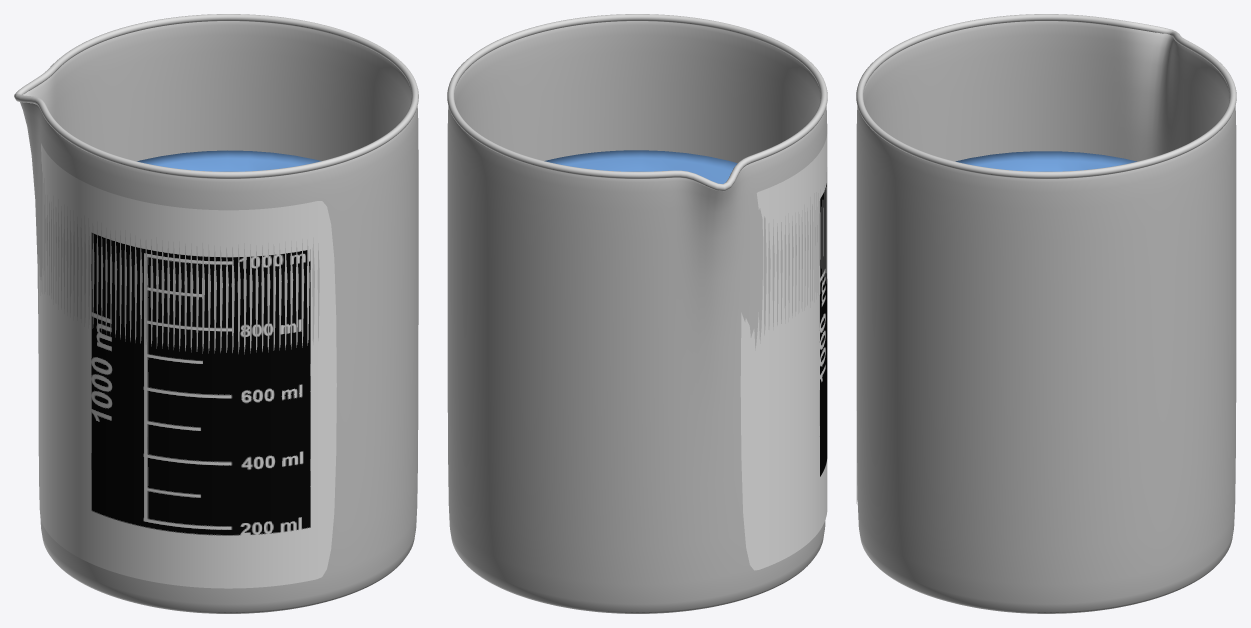
Rendered from Upload beaker.fbx.
3 renders of one model, left to right at view 1: azimuth 30°, elevation 25°; view 2: azimuth 150°, elevation 25°; view 3: azimuth 270°, elevation 25°, orthographic.
Parts seen in each view (by area): view 1: Circle, Circle.002, Circle.001, Circle.014; view 2: Circle, Circle.002, Circle.001, Circle.014; view 3: Circle, Circle.001, Circle.014.
Part boxes in pixels (x1,y1,x2,y2): Circle: (20, 21, 418, 613); Circle.002: (38, 143, 336, 588); Circle.001: (14, 14, 418, 178); Circle.014: (137, 150, 321, 171); Circle: (447, 21, 827, 613); Circle.002: (740, 134, 827, 570); Circle.001: (447, 14, 827, 191); Circle.014: (544, 150, 737, 183); Circle: (856, 21, 1236, 613); Circle.001: (856, 14, 1236, 178); Circle.014: (955, 151, 1136, 171).
Bounding box in the file's own units: 154 × 200 × 154.
3 materials, 1 textured.
